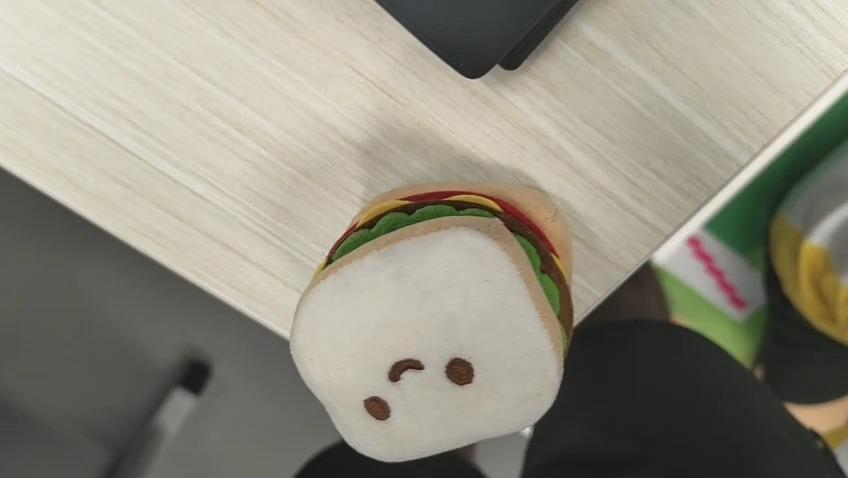objects: (286, 185, 571, 465)
